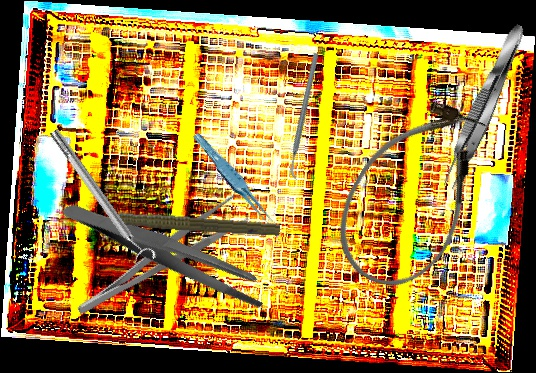Cannula: (316, 82, 510, 306)
Chopper: (246, 51, 364, 182)
Dressing Forceps: (60, 155, 275, 349), (66, 193, 251, 319)
Fixation Ring: (43, 123, 159, 271)
Handpiece: (84, 202, 281, 240)
Tissue Forceps: (437, 20, 532, 193), (192, 127, 275, 232)
